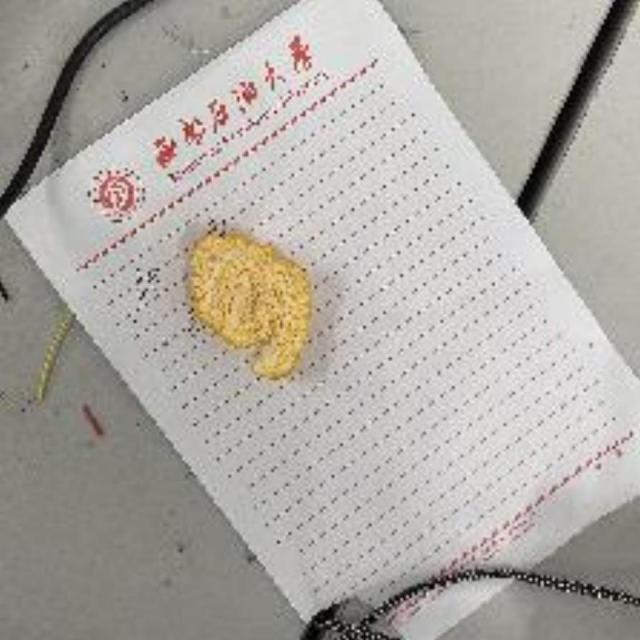orange-peel: (189, 229, 313, 379)
